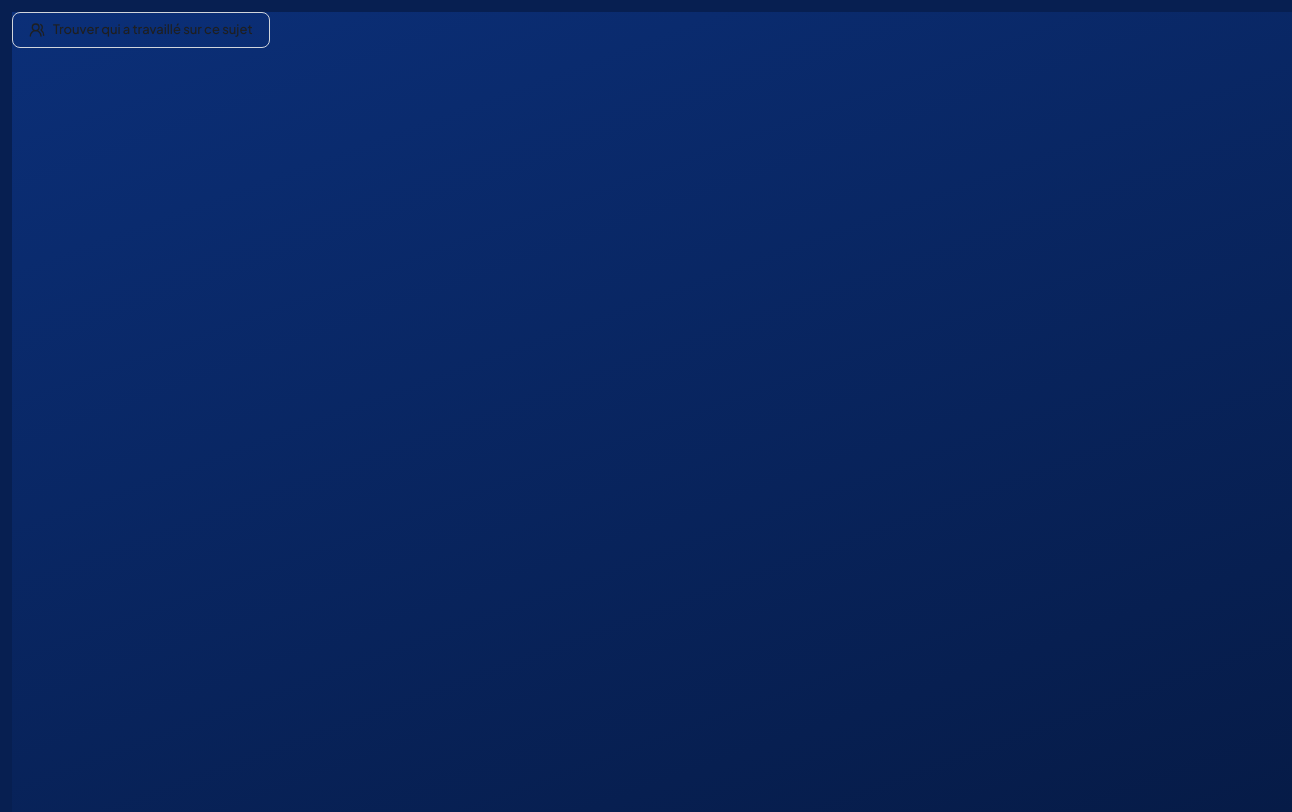
Test: WorkMatchPanel › n'interroge l'assistant qu'au clic sur le bouton
The width and height of the screenshot is (1292, 812).
Click the button "Trouver qui a travaillé sur ce sujet". click: (141, 30)
box: [12,12,270,48]
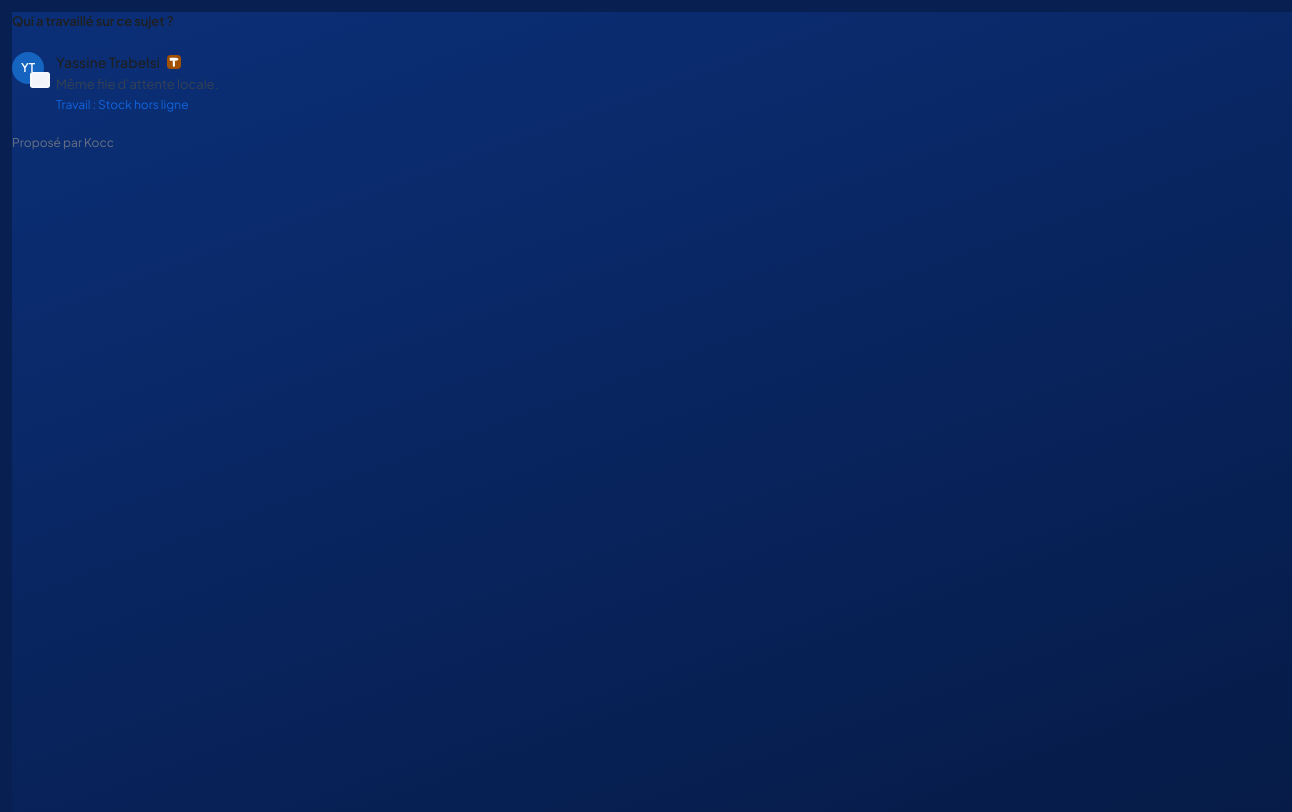
Now the text "Même file d'attente locale." is shown, box [56,76,218,92]
